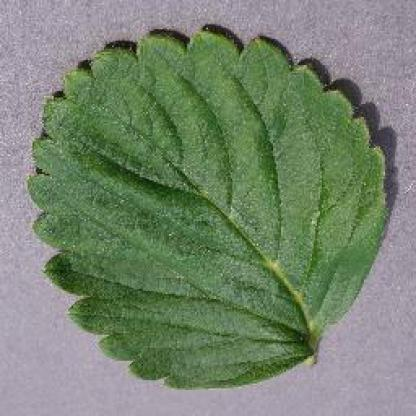healthy: (19, 25, 395, 392)
